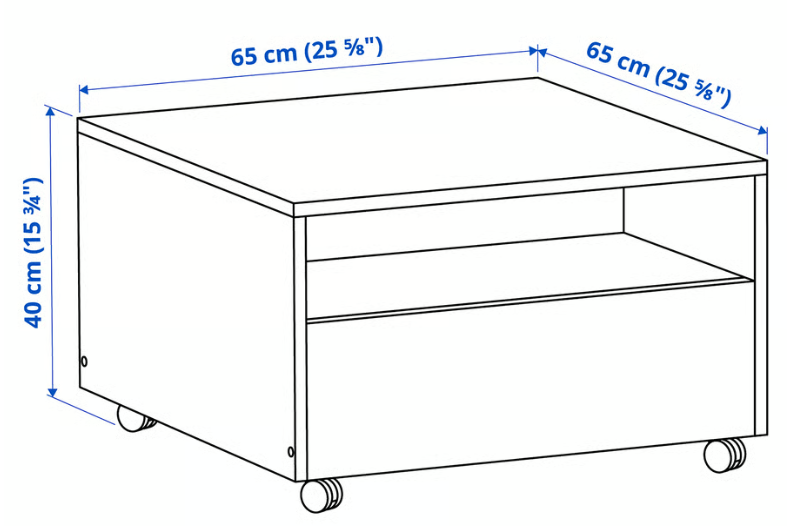table_drawer: (307, 277, 755, 481)
table_shelf: (306, 188, 745, 320)
table_support: (77, 132, 306, 481), (624, 174, 767, 436)
table_top: (77, 78, 768, 217)
table_wheels: (704, 438, 746, 473), (301, 479, 343, 513), (118, 405, 157, 432)
